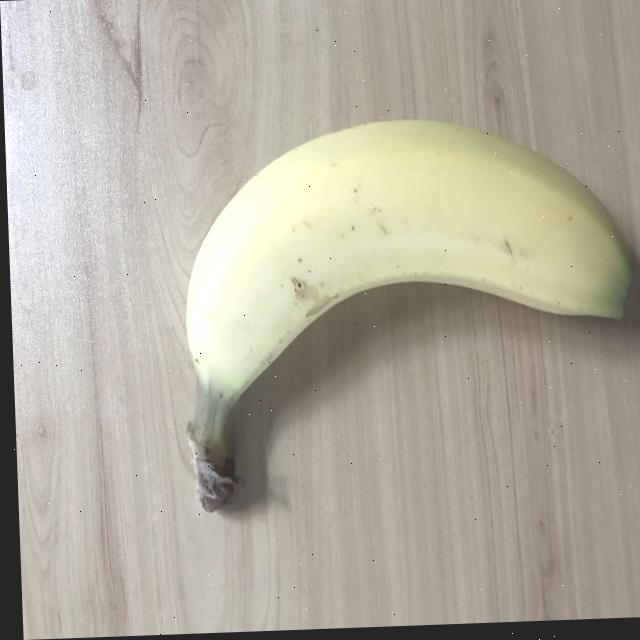banana: (167, 108, 640, 511)
